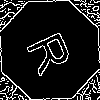R: (25, 25, 82, 77)
